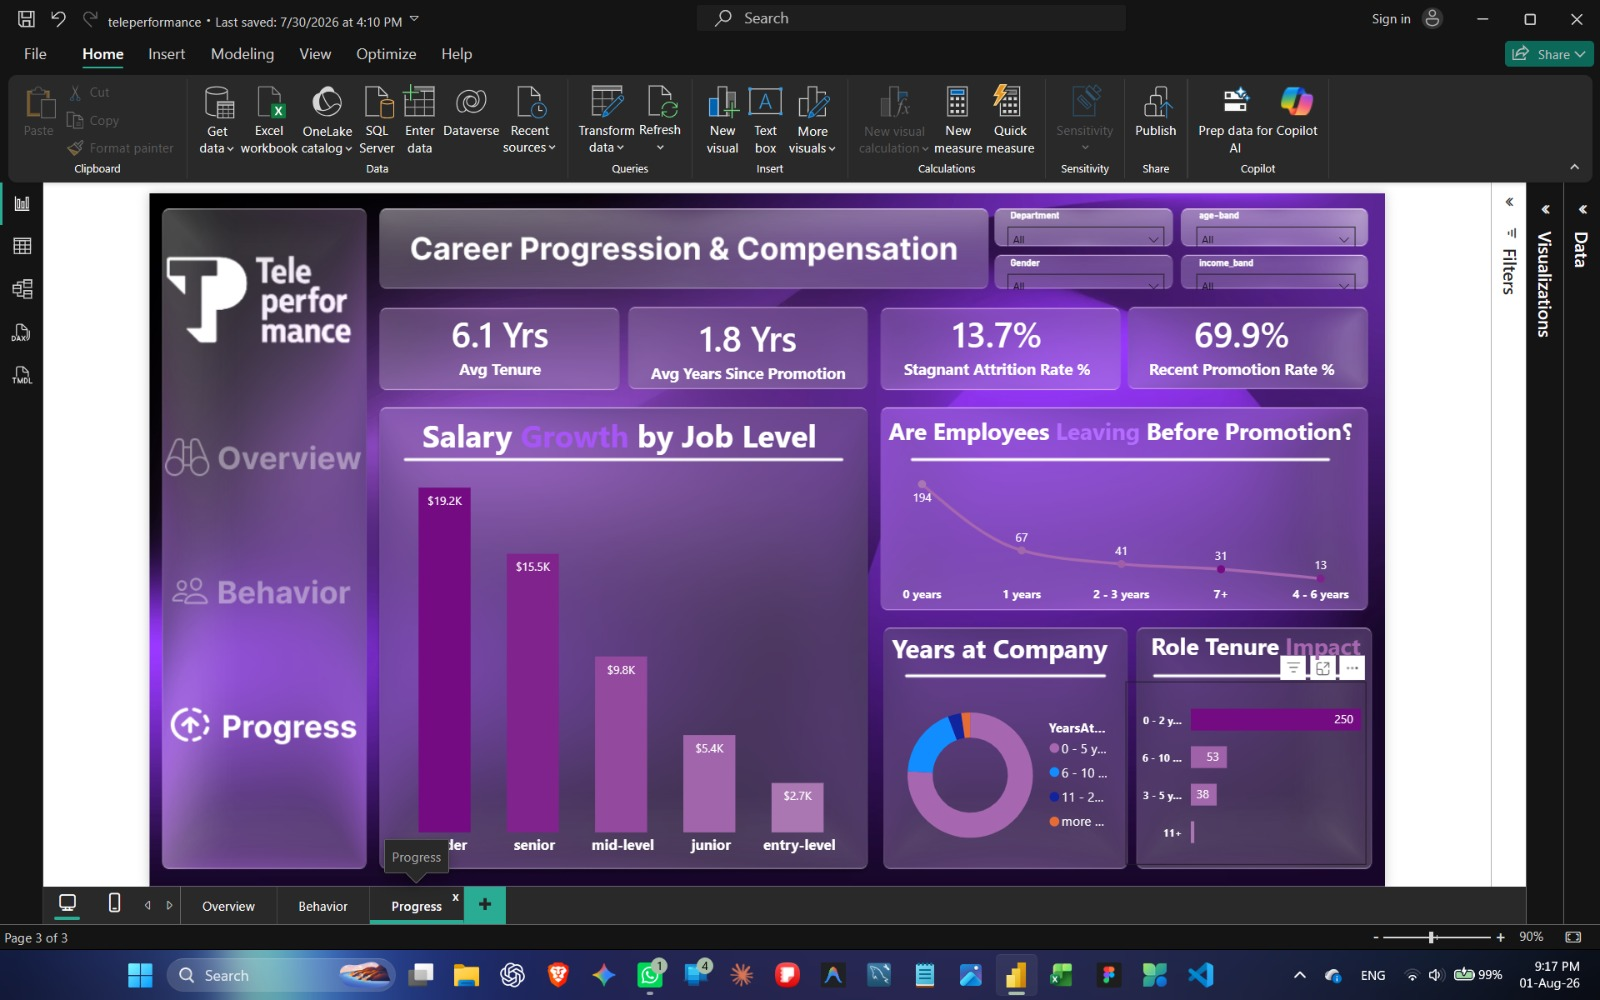

This screenshot's page, from the dashboard's own definition file:
{"tool":"powerbi","page":{"name":"Progress","canvas":[1280,720],"ordinal":2},"visuals":[{"type":"actionButton","box":[15.7,247.1,210,55.7],"z":0},{"type":"actionButton","box":[15.6,392.2,210,56.7],"z":1000},{"type":"slicer","fields":{"Values":["jop_dim.Department"]},"box":[878.7,16.7,182.7,38],"z":2000},{"type":"slicer","fields":{"Values":["employee_dim.age-band"]},"box":[1074.4,16.2,184.4,38.8],"z":3000},{"type":"slicer","fields":{"Values":["employee_dim.Gender"]},"box":[879.1,65.5,182.7,34.5],"z":4000},{"type":"slicer","fields":{"Values":["employee_dim.income_band"]},"box":[1074.3,65.2,184.3,34.8],"z":5000},{"type":"cardVisual","fields":{"Data":["mesures.Avg Tenure"]},"box":[237.5,100,251.2,113.8],"z":6000},{"type":"cardVisual","fields":{"Data":["mesures.Avg Years Since Promotion"]},"box":[488.8,107.5,263.8,106.2],"z":7000},{"type":"cardVisual","fields":{"Data":["mesures.Stagnant Attrition Rate %"]},"box":[752.5,100,252.5,113.8],"z":8000},{"type":"cardVisual","fields":{"Data":["mesures.Recent Promotion Rate %"]},"box":[1005,100,252.5,113.8],"z":9000},{"type":"clusteredColumnChart","fields":{"Category":["jop_dim.JobLevel"],"Y":["mesures.Avg Monthly Income"]},"box":[237.5,291.2,506.2,405],"z":10000},{"type":"textbox","box":[249.1,224.6,485.2,79.2],"z":11000},{"type":"lineChart","fields":{"Y":["mesures.Attrition Count"],"Category":["employee_dim.YearsSinceLastPromotion_band"]},"box":[754.5,283.7,505.4,151.2],"z":12000},{"type":"textbox","box":[754.5,226.1,504,97.9],"z":13000},{"type":"donutChart","fields":{"Category":["employee_dim.YearsAtCompany_band"],"Y":["mesures.Attrition Count"]},"box":[764.6,509.7,243.3,185.7],"z":14000},{"type":"textbox","box":[764.6,447.8,269.3,77.8],"z":15000},{"type":"clusteredBarChart","fields":{"Category":["employee_dim.YearsInCurrentRole_band"],"Y":["mesures.Attrition Count"]},"box":[1010.8,505.4,249.1,190.1],"z":16000},{"type":"textbox","box":[1022.3,447.8,247.7,46.1],"z":17000}]}

Visuals, with their boxes on the page's 1280x720 design canvas (x1, y1, x2, y2). These are canvas units, not pixel positions in the 1600x1000 screenshot, which may show the page scaled, cropped or inside an application window:
actionButton: l=16, t=247, r=226, b=303
actionButton: l=16, t=392, r=226, b=449
slicer - jop_dim.Department: l=879, t=17, r=1061, b=55
slicer - employee_dim.age-band: l=1074, t=16, r=1259, b=55
slicer - employee_dim.Gender: l=879, t=66, r=1062, b=100
slicer - employee_dim.income_band: l=1074, t=65, r=1259, b=100
cardVisual - mesures.Avg Tenure: l=238, t=100, r=489, b=214
cardVisual - mesures.Avg Years Since Promotion: l=489, t=108, r=753, b=214
cardVisual - mesures.Stagnant Attrition Rate %: l=752, t=100, r=1005, b=214
cardVisual - mesures.Recent Promotion Rate %: l=1005, t=100, r=1258, b=214
clusteredColumnChart - jop_dim.JobLevel x mesures.Avg Monthly Income: l=238, t=291, r=744, b=696
textbox: l=249, t=225, r=734, b=304
lineChart - mesures.Attrition Count x employee_dim.YearsSinceLastPromotion_band: l=754, t=284, r=1260, b=435
textbox: l=754, t=226, r=1258, b=324
donutChart - employee_dim.YearsAtCompany_band x mesures.Attrition Count: l=765, t=510, r=1008, b=695
textbox: l=765, t=448, r=1034, b=526
clusteredBarChart - employee_dim.YearsInCurrentRole_band x mesures.Attrition Count: l=1011, t=505, r=1260, b=696
textbox: l=1022, t=448, r=1270, b=494
